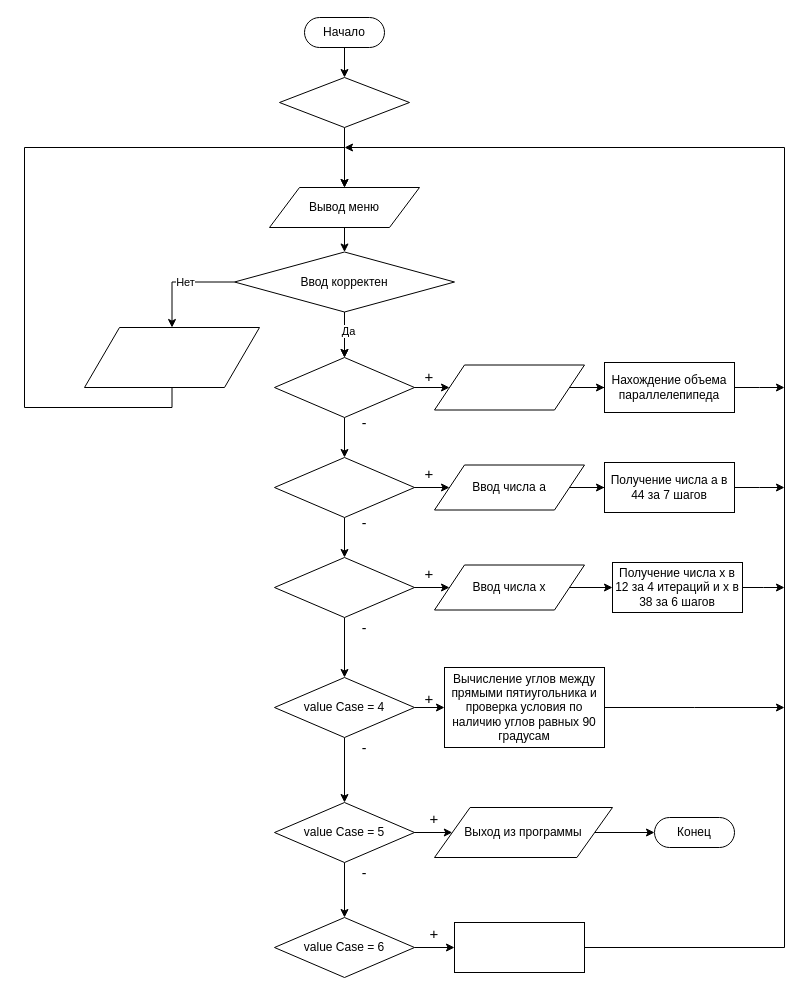
Some shapes in this 810 by 995 pixel diagram are drawn without their labels. Here are the shapes that lost their labels. From the top down, the centre of each, then its label:
[344,102]: while(true)
[172,357]: Вывод информации о неверном вводе
[344,387]: value Case = 1
[509,387]: Ввод сторон параллелепипеда a, b, c
[344,487]: value Case = 2
[344,587]: value Case = 3
[519,947]: Очистка консоли от ввода
